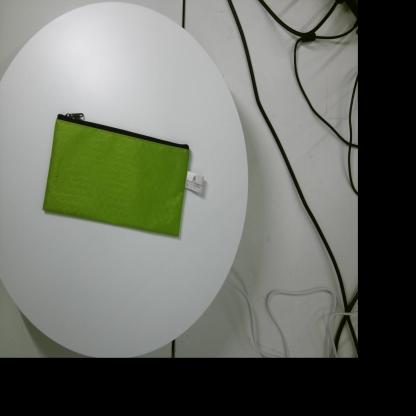Stationery: (42, 113, 204, 237)
